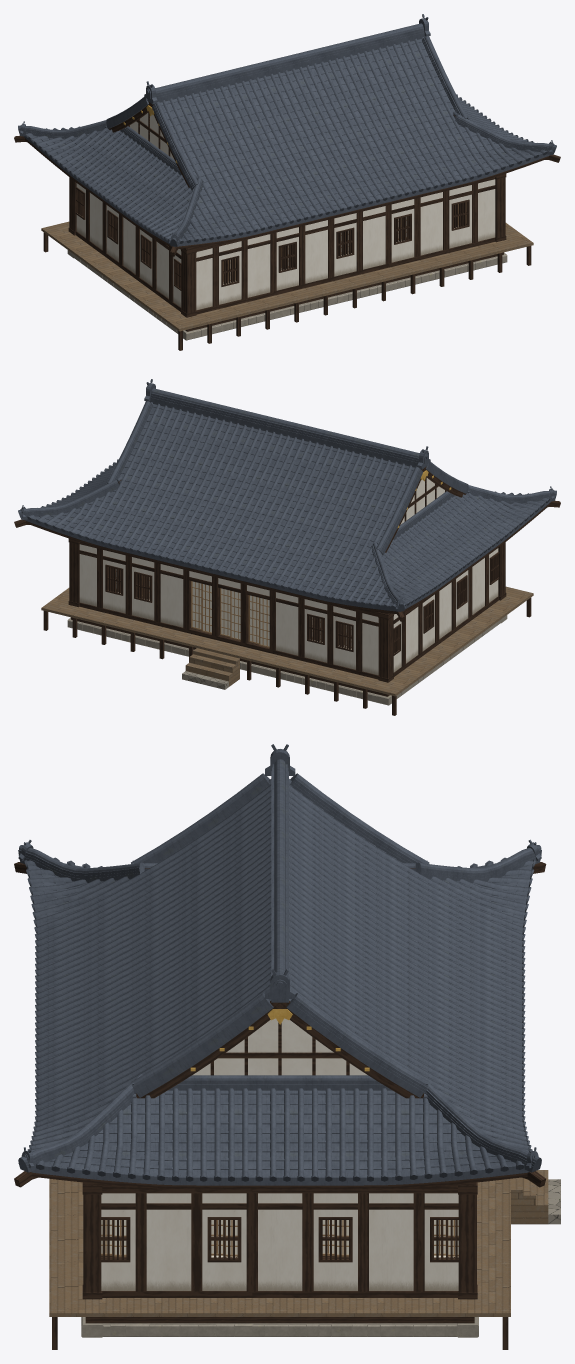
Rendered from HO_Castle_AcademyHall.fbx.
3 renders of one model, top to bottom at view 1: azimuth 30°, elevation 25°; view 2: azimuth 150°, elevation 25°; view 3: azimuth 270°, elevation 25°, orthographic. The views are drawn at different scales.
Visible parts, largest first — view 1: HO_Castle_AcademyHall_RoofTilesB, HO_Castle_AcademyHall_RoofTilesA, HO_Castle_AcademyHall_StructureB__Timber_Dark, HO_Castle_AcademyHall_StructureB__Plaster_White, HO_Castle_AcademyHall_StructureA__Timber_Dark, HO_Castle_AcademyHall_StructureA__Plaster_White, HO_Castle_AcademyHall_StructureA__Wood_Planks, HO_Castle_AcademyHall_StructureB__Wood_Planks, HO_Castle_AcademyHall_RoofFrame__Timber_Dark, HO_Castle_AcademyHall_StructureB__Stone_Granite, HO_Castle_AcademyHall_StructureA__Stone_Granite, HO_Castle_AcademyHall_RoofFrame__Plaster_White; view 2: HO_Castle_AcademyHall_RoofTilesB, HO_Castle_AcademyHall_RoofTilesA, HO_Castle_AcademyHall_StructureB__Timber_Dark, HO_Castle_AcademyHall_StructureB__Plaster_White, HO_Castle_AcademyHall_StructureA__Timber_Dark, HO_Castle_AcademyHall_StructureA__Wood_Planks, HO_Castle_AcademyHall_StructureA__Plaster_White, HO_Castle_AcademyHall_StructureB__Wood_Planks, HO_Castle_AcademyHall_RoofFrame__Timber_Dark, HO_Castle_AcademyHall_StructureB__Stone_Granite, HO_Castle_AcademyHall_StructureA__Stone_Granite, HO_Castle_AcademyHall_RoofFrame__Plaster_White (+5 smaller); view 3: HO_Castle_AcademyHall_RoofTilesA, HO_Castle_AcademyHall_RoofTilesB, HO_Castle_AcademyHall_StructureA__Timber_Dark, HO_Castle_AcademyHall_StructureA__Plaster_White, HO_Castle_AcademyHall_StructureA__Wood_Planks, HO_Castle_AcademyHall_RoofFrame__Timber_Dark, HO_Castle_AcademyHall_StructureA__Stone_Granite, HO_Castle_AcademyHall_RoofFrame__Plaster_White, HO_Castle_AcademyHall_StructureA__Shoji_Paper, HO_Castle_AcademyHall_StructureA__Timber_Light.
Boxes of the visible parts, x1=… form: HO_Castle_AcademyHall_RoofTilesB: x1=18, y1=56, x2=359, y2=246; HO_Castle_AcademyHall_RoofTilesA: x1=284, y1=14, x2=556, y2=208; HO_Castle_AcademyHall_StructureB__Timber_Dark: x1=43, y1=177, x2=388, y2=350; HO_Castle_AcademyHall_StructureB__Plaster_White: x1=76, y1=183, x2=356, y2=310; HO_Castle_AcademyHall_StructureA__Timber_Dark: x1=187, y1=173, x2=531, y2=331; HO_Castle_AcademyHall_StructureA__Plaster_White: x1=354, y1=179, x2=495, y2=269; HO_Castle_AcademyHall_StructureA__Wood_Planks: x1=42, y1=221, x2=533, y2=331; HO_Castle_AcademyHall_StructureB__Wood_Planks: x1=41, y1=228, x2=185, y2=330; HO_Castle_AcademyHall_RoofFrame__Timber_Dark: x1=14, y1=101, x2=560, y2=256; HO_Castle_AcademyHall_StructureB__Stone_Granite: x1=67, y1=250, x2=388, y2=340; HO_Castle_AcademyHall_StructureA__Stone_Granite: x1=348, y1=252, x2=507, y2=300; HO_Castle_AcademyHall_RoofFrame__Plaster_White: x1=130, y1=113, x2=174, y2=159; HO_Castle_AcademyHall_RoofTilesB: x1=215, y1=421, x2=556, y2=611; HO_Castle_AcademyHall_RoofTilesA: x1=18, y1=379, x2=290, y2=573; HO_Castle_AcademyHall_StructureB__Timber_Dark: x1=240, y1=542, x2=531, y2=715; HO_Castle_AcademyHall_StructureB__Plaster_White: x1=247, y1=548, x2=498, y2=675; HO_Castle_AcademyHall_StructureA__Timber_Dark: x1=43, y1=538, x2=387, y2=696; HO_Castle_AcademyHall_StructureA__Wood_Planks: x1=41, y1=586, x2=532, y2=696; HO_Castle_AcademyHall_StructureA__Plaster_White: x1=79, y1=544, x2=240, y2=627; HO_Castle_AcademyHall_StructureB__Wood_Planks: x1=229, y1=593, x2=533, y2=695; HO_Castle_AcademyHall_RoofFrame__Timber_Dark: x1=14, y1=466, x2=560, y2=621; HO_Castle_AcademyHall_StructureB__Stone_Granite: x1=240, y1=615, x2=507, y2=705; HO_Castle_AcademyHall_StructureA__Stone_Granite: x1=67, y1=617, x2=271, y2=669; HO_Castle_AcademyHall_RoofFrame__Plaster_White: x1=400, y1=478, x2=444, y2=524; HO_Castle_AcademyHall_RoofTilesA: x1=18, y1=869, x2=541, y2=1185; HO_Castle_AcademyHall_RoofTilesB: x1=18, y1=744, x2=541, y2=1028; HO_Castle_AcademyHall_StructureA__Timber_Dark: x1=52, y1=1182, x2=508, y2=1349; HO_Castle_AcademyHall_StructureA__Plaster_White: x1=101, y1=1193, x2=458, y2=1290; HO_Castle_AcademyHall_StructureA__Wood_Planks: x1=49, y1=1170, x2=548, y2=1316; HO_Castle_AcademyHall_RoofFrame__Timber_Dark: x1=14, y1=862, x2=546, y2=1189; HO_Castle_AcademyHall_StructureA__Stone_Granite: x1=81, y1=1317, x2=478, y2=1337; HO_Castle_AcademyHall_RoofFrame__Plaster_White: x1=192, y1=1018, x2=367, y2=1075; HO_Castle_AcademyHall_StructureA__Shoji_Paper: x1=101, y1=1220, x2=458, y2=1254; HO_Castle_AcademyHall_StructureA__Timber_Light: x1=101, y1=1220, x2=458, y2=1256.
Size of the model in its own units: 54.29 by 27.74 by 39.34.
